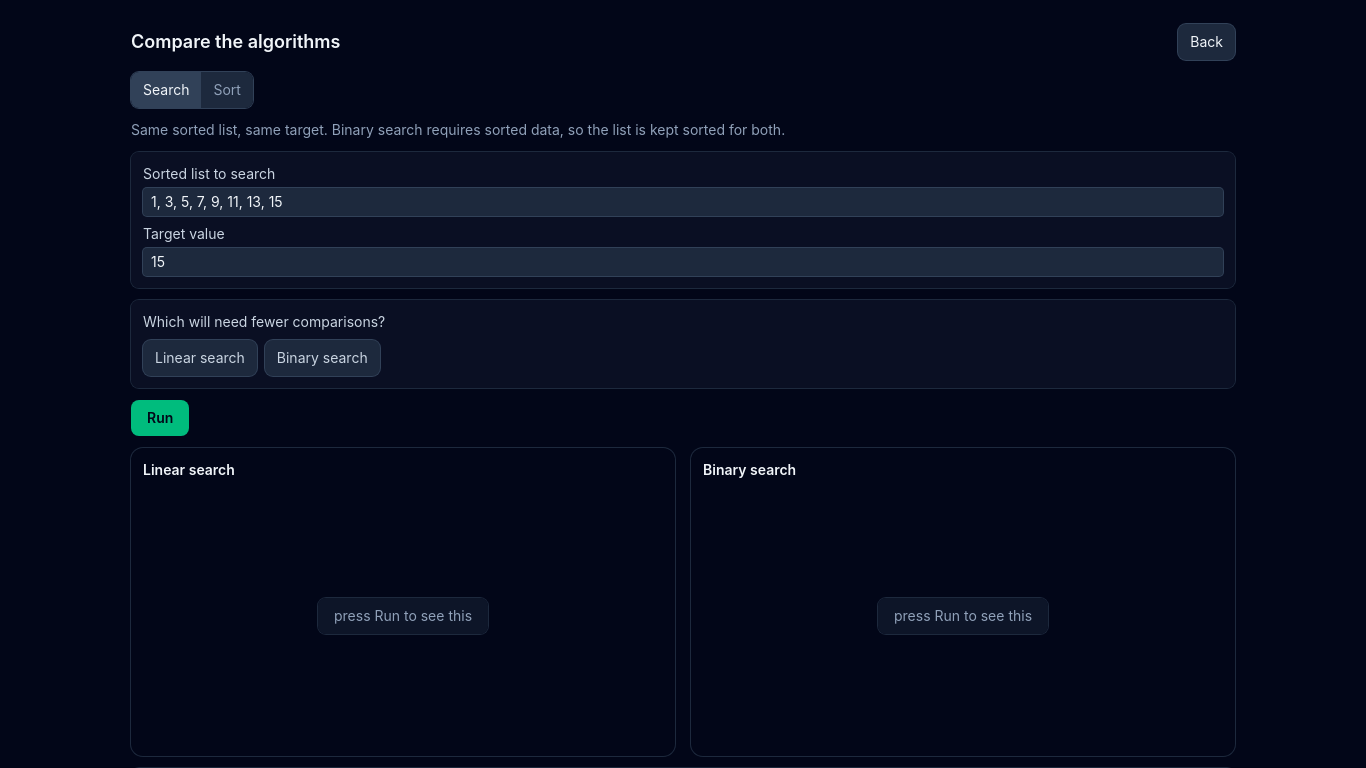
Compare — pick-the-winner (AC-9.8) › resolves after both algorithms complete, based on the real comparison counts
Click the button "Linear search": point(200, 358) left=143, top=340, right=257, bottom=376
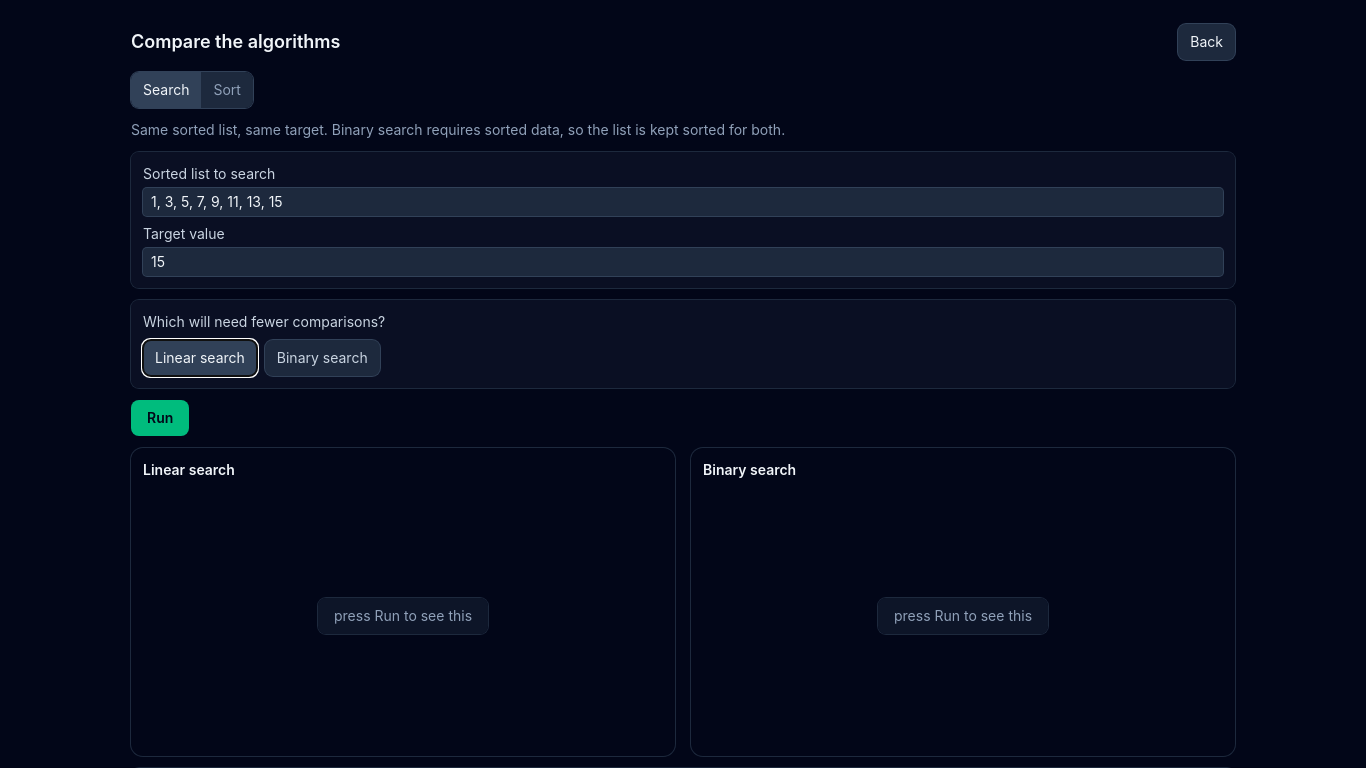
Click the button "Run": point(160, 418) left=131, top=400, right=189, bottom=436
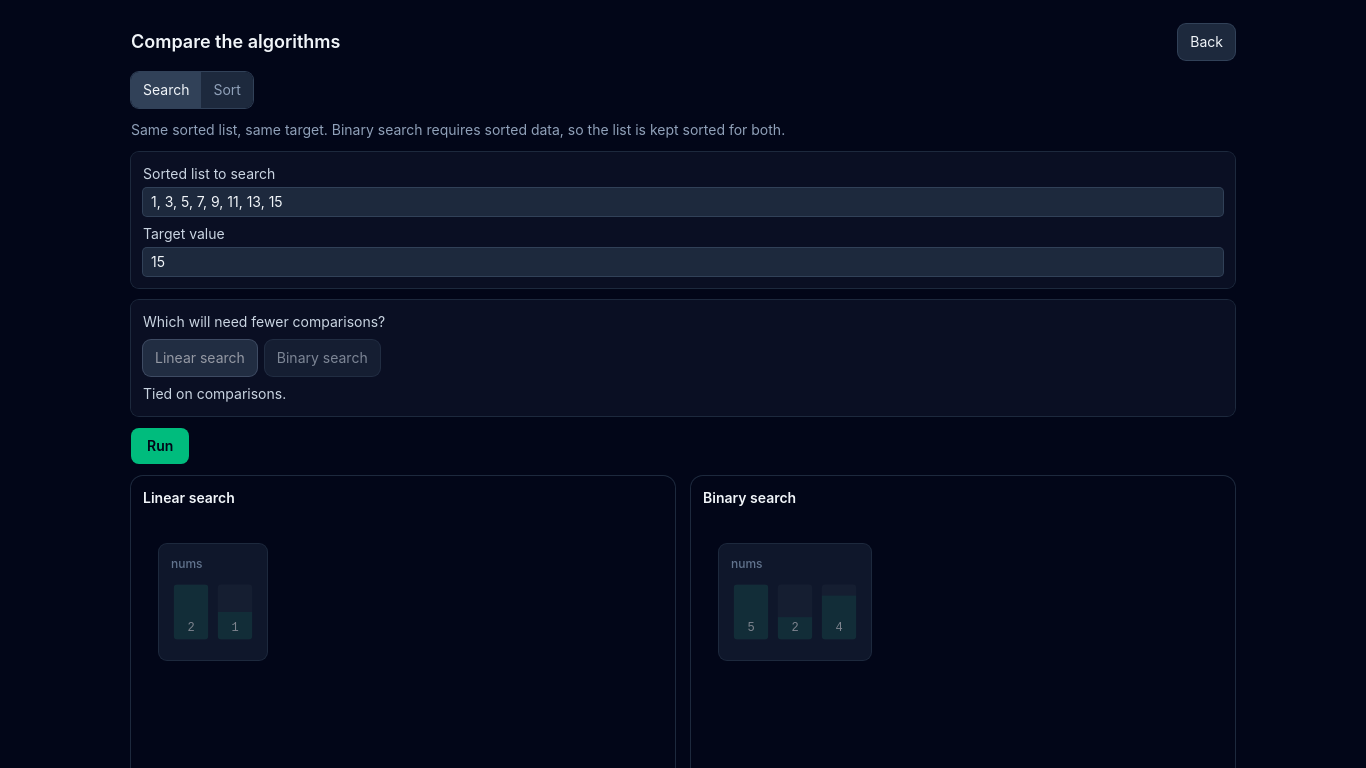
Result: the text "Tied on comparisons." is shown at left=143, top=385, right=286, bottom=402
